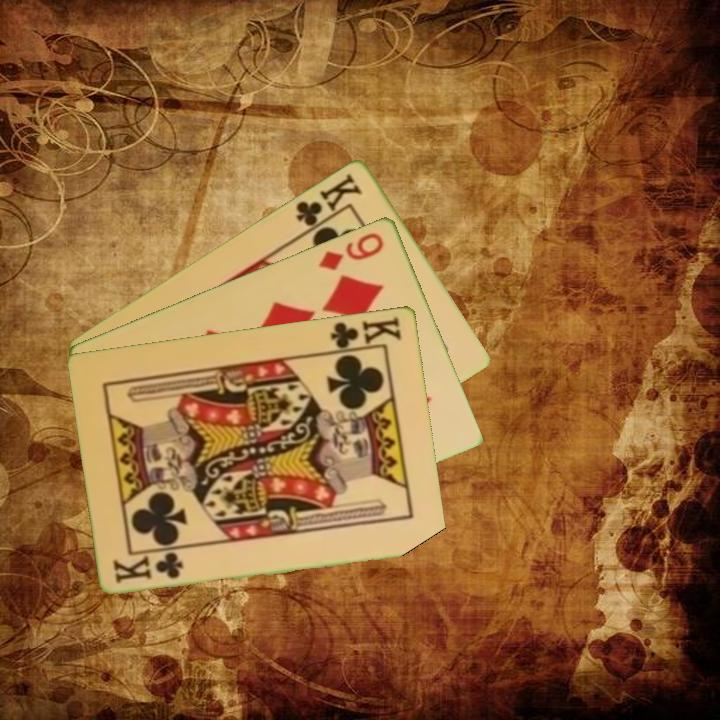9d: (314, 228, 387, 273)
Kc: (292, 169, 366, 236), (325, 313, 405, 355), (110, 549, 187, 586)
